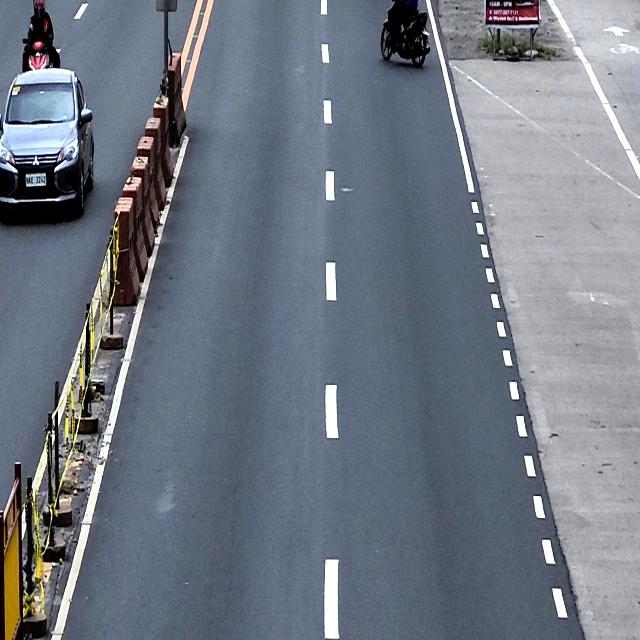Car: (0, 67, 95, 217)
License-Plate: (24, 170, 47, 188)
Motorcycle: (380, 2, 430, 68), (21, 35, 57, 71)
